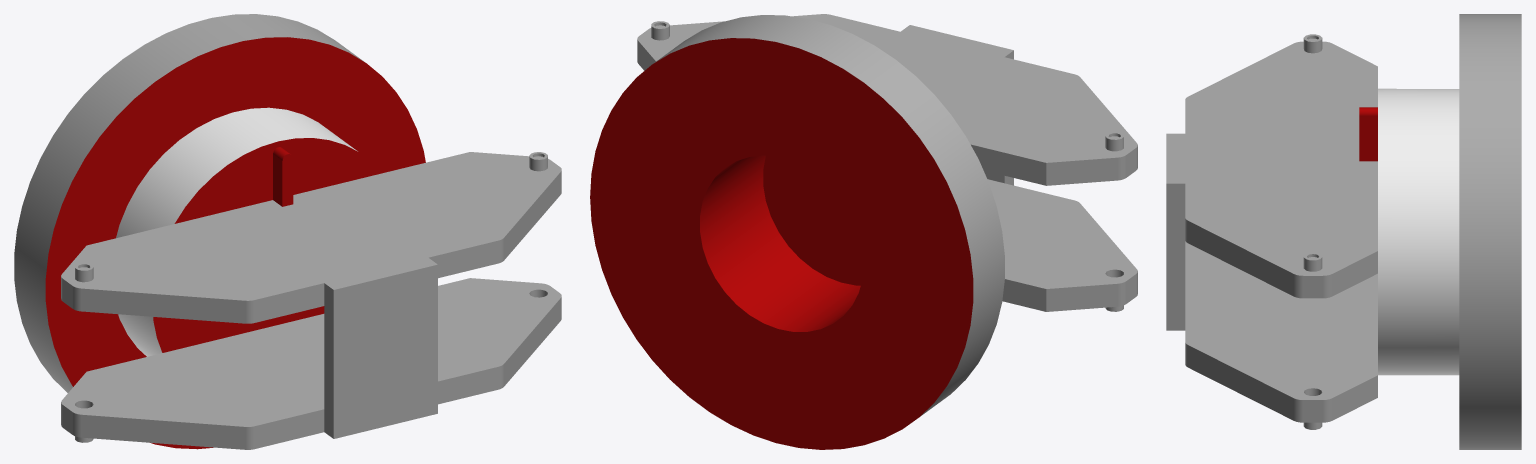
The picture shows the model from 3 angles, left to right: view 1: azimuth 30°, elevation 25°; view 2: azimuth 150°, elevation 25°; view 3: azimuth 270°, elevation 25°; orthographic projection.
Visible parts, largest first — view 1: Solid1, Solid2; view 2: Solid1, Solid2; view 3: Solid1, Solid2.
Part boxes in pixels (x1=…): Solid1: x1=14, y1=14, x2=561, y2=449; Solid2: x1=324, y1=257, x2=437, y2=438; Solid1: x1=590, y1=14, x2=1137, y2=449; Solid2: x1=901, y1=25, x2=1013, y2=185; Solid1: x1=1185, y1=14, x2=1521, y2=449; Solid2: x1=1166, y1=133, x2=1185, y2=330.
Bounding box in the file's own units: 0.0889 × 0.07 × 0.057.
